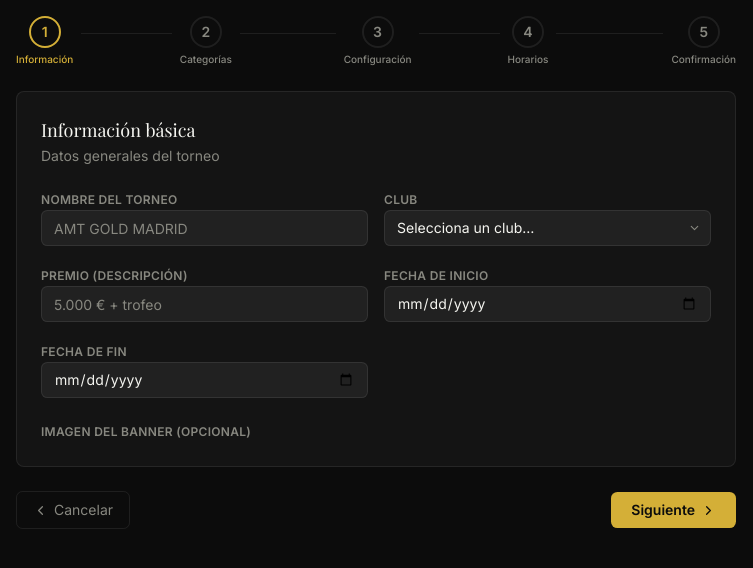
Test: Crear torneo — sin club elegido › «Club requerido», sin el mensaje en inglés
Step 1. Type "Open de otoño" into the field named "name" → [204, 228], box [41,210,368,246]
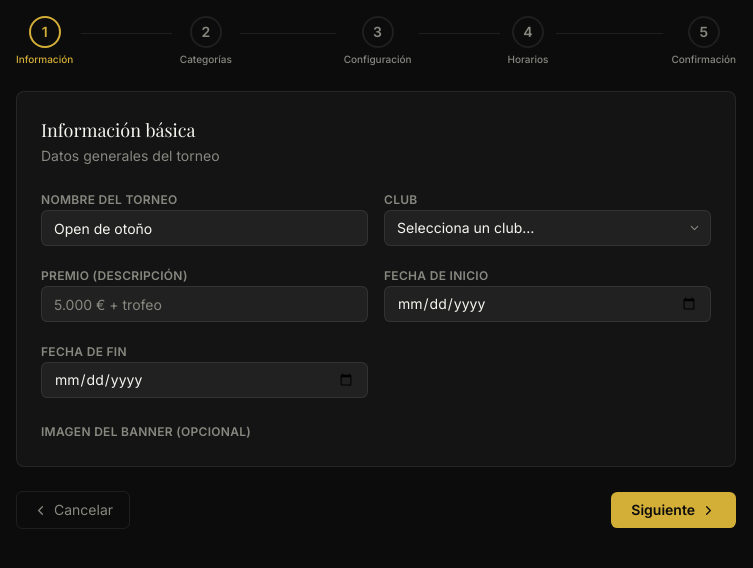
Step 2. Type "2099-11-20" into the date field named "startDate" below "Fecha de inicio" → [548, 304], box [384,286,711,322]
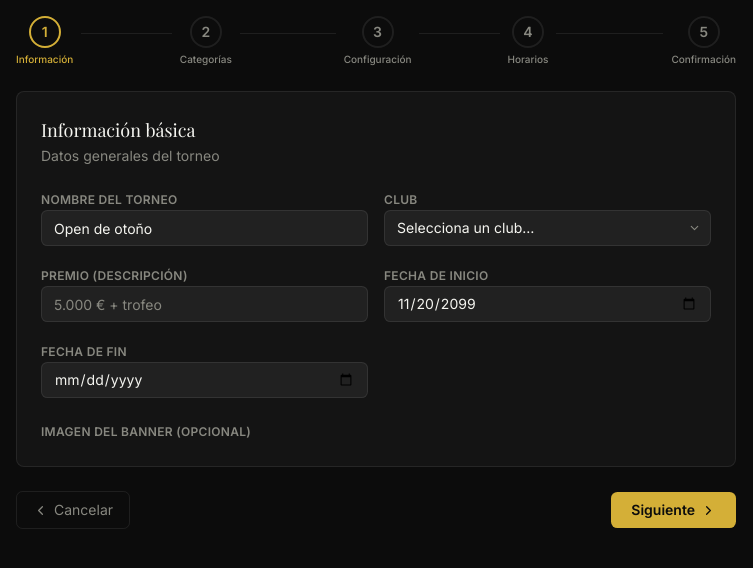
Step 3. Type "2099-11-21" into the date field named "endDate" below "Fecha de fin" → [204, 380], box [41,362,368,398]
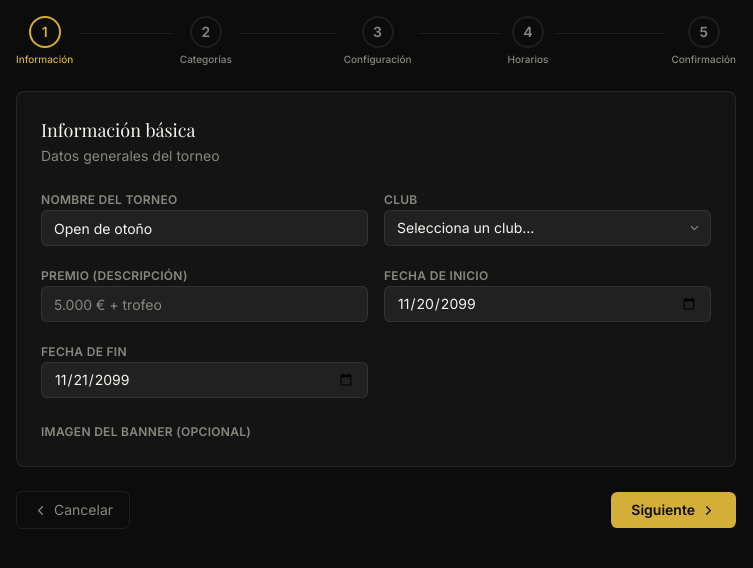
Step 4. Click the button "Siguiente" → [674, 510], box [611,492,736,528]
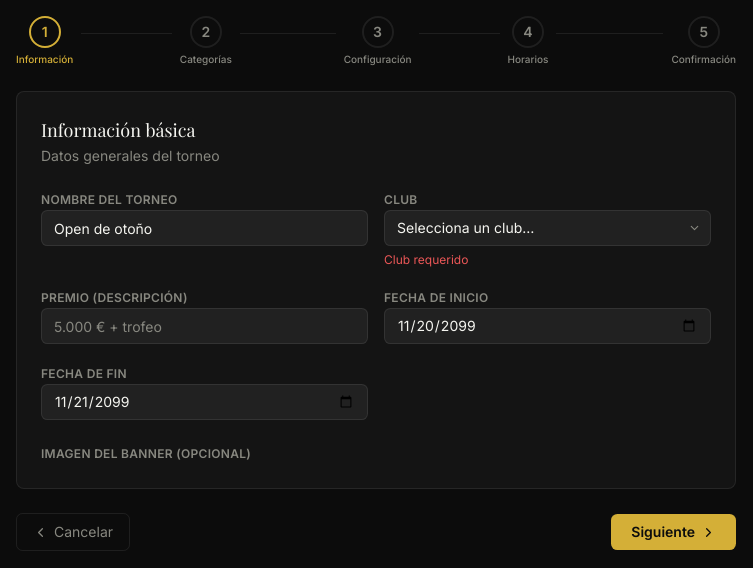
Expected: the heading "Información básica" is shown, [41,118,196,142]
Now the text "Club requerido" is shown, box [384,252,468,267]
